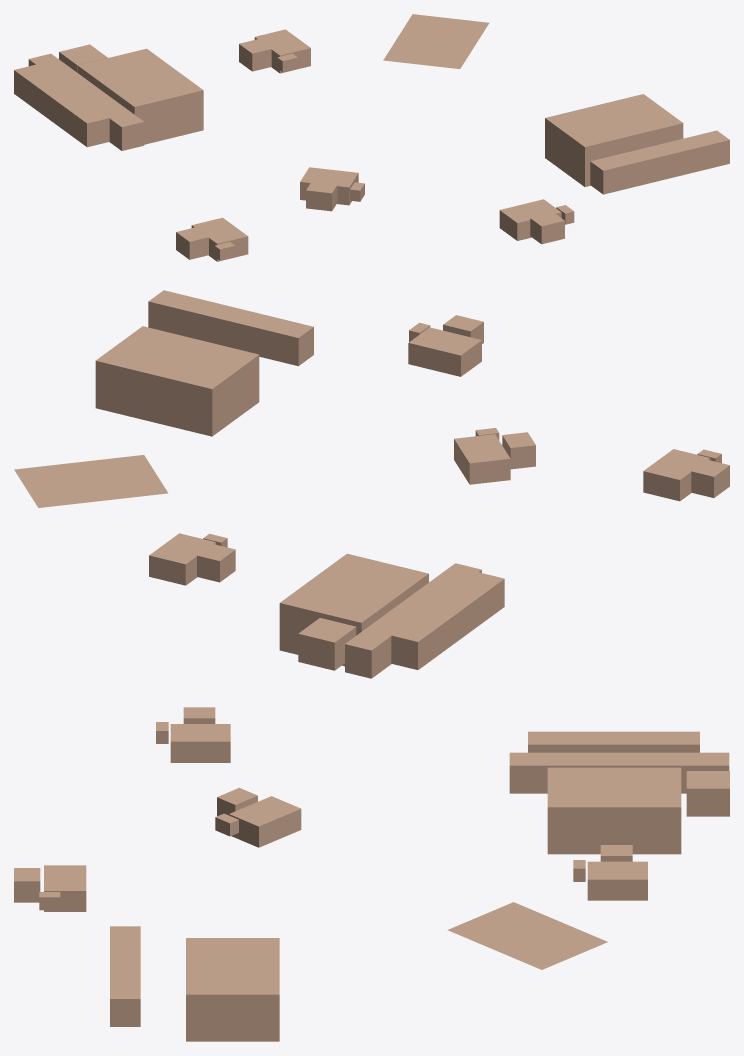
The model's file is stone_ring.glb.
3 renders of one model, top to bottom at view 1: azimuth 30°, elevation 25°; view 2: azimuth 150°, elevation 25°; view 3: azimuth 270°, elevation 25°, orthographic. The views are drawn at different scales.
Parts seen in each view (by area): view 1: Rocks; view 2: Rocks; view 3: Rocks.
Boxes of the visible parts, x1,y1,x2,y2 form: Rocks: (14, 14, 729, 261); Rocks: (14, 290, 729, 678); Rocks: (14, 707, 729, 1041).
Bounding box in the file's own units: 10.91 × 0.8877 × 11.29.
